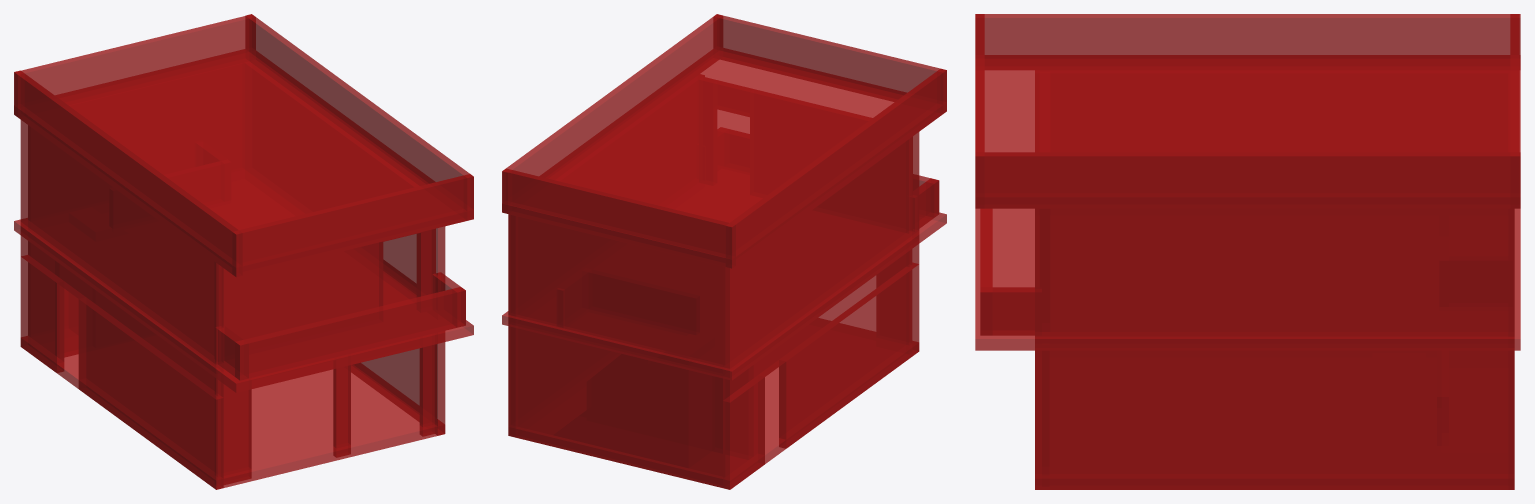
File: SM_Bld_Shop_10_Collision.fbx
3 views of the same model, side by side, from view 1: azimuth 30°, elevation 25°; view 2: azimuth 150°, elevation 25°; view 3: azimuth 270°, elevation 25° (orthographic). The views are drawn at different scales.
Visible parts, largest first — view 1: SM_Bld_Shop_10_Collision; view 2: SM_Bld_Shop_10_Collision; view 3: SM_Bld_Shop_10_Collision.
Boxes of the visible parts, x1,y1,x2,y2 form: SM_Bld_Shop_10_Collision: (14,14,473,489); SM_Bld_Shop_10_Collision: (502,14,946,489); SM_Bld_Shop_10_Collision: (975,14,1520,489).
Size of the model in its own units: 702 by 773 by 1136.
